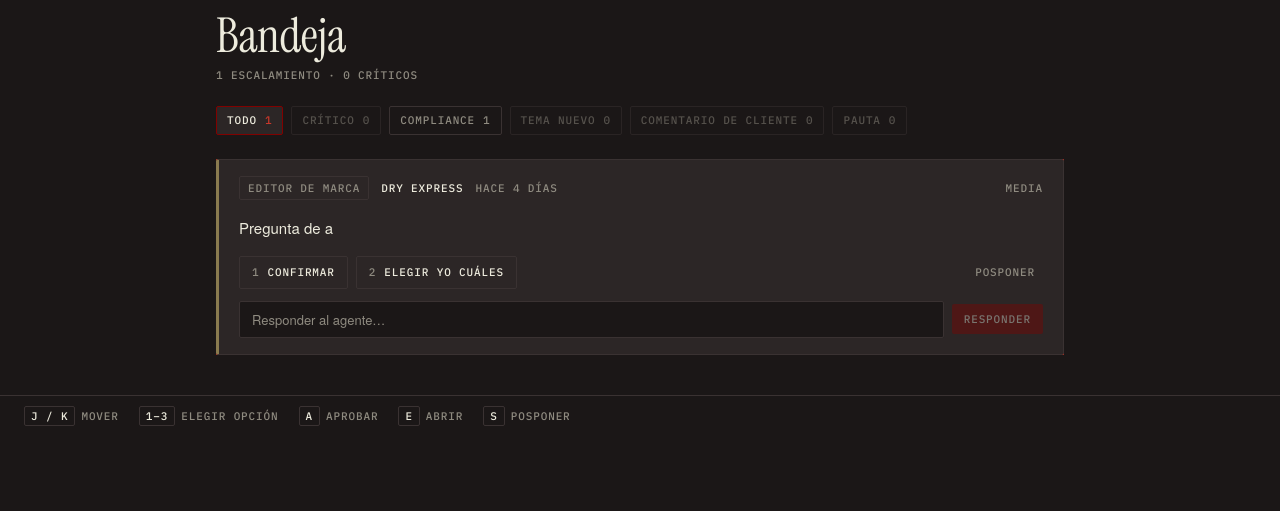
Test: la bandeja › si el servidor rechaza, la tarjeta regresa y dice por qué
Click the button "1 Confirmar" at (293, 272), box 239,256 -> 348,289
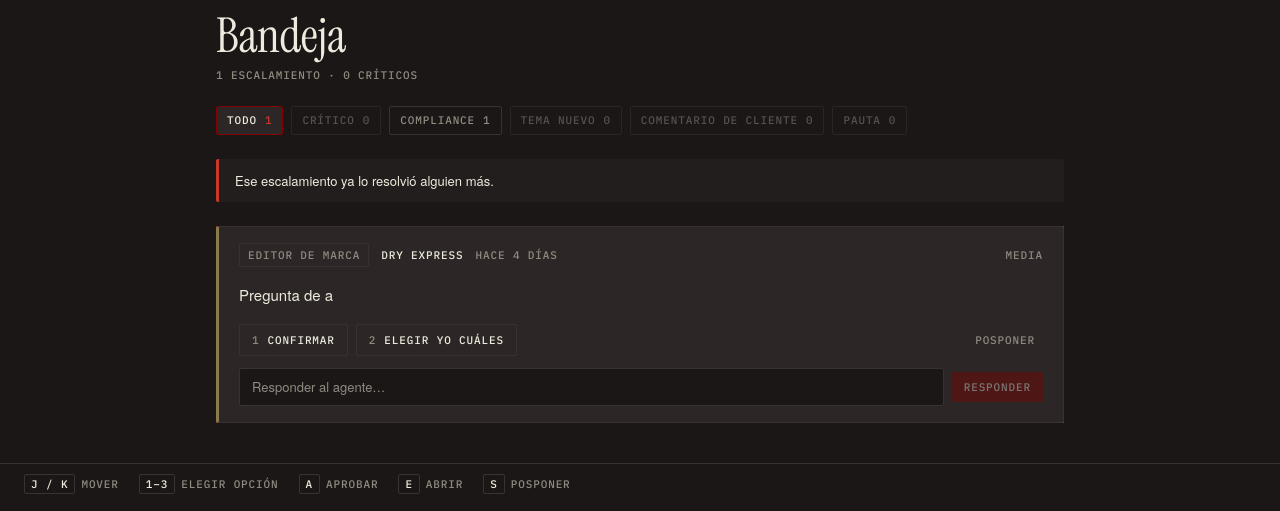
Expected: the message shows "ya lo resolvió alguien más", 235,171 -> 494,190
